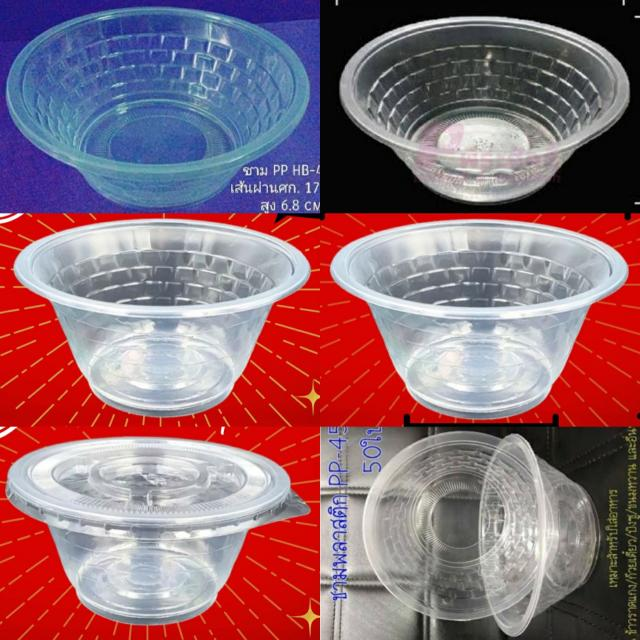Single-Use-Plastic: (6, 8, 309, 208), (332, 220, 627, 419), (14, 220, 309, 416), (6, 438, 309, 625), (340, 18, 629, 203), (363, 431, 500, 620), (479, 434, 599, 636)
